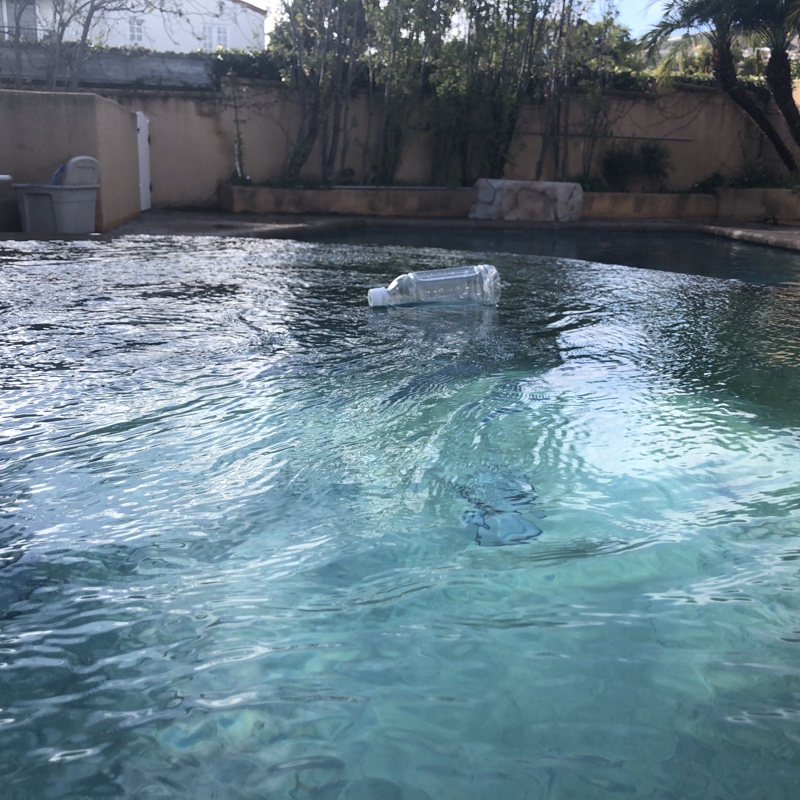Plastic Bottle: (364, 262, 505, 311)
